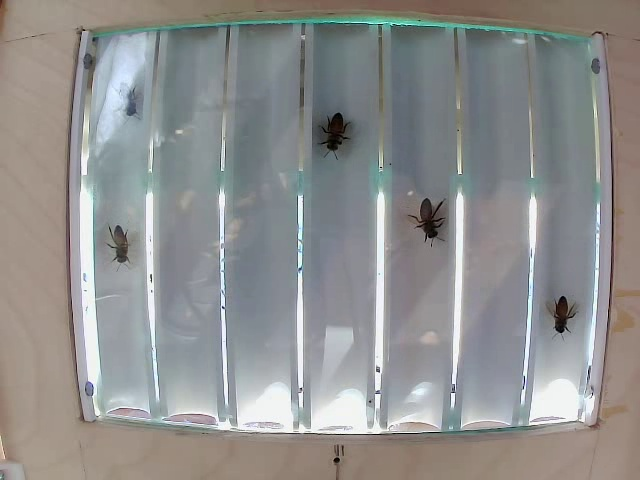bee: (407, 189, 450, 243), (319, 110, 358, 155), (545, 287, 581, 335), (107, 230, 140, 273)
